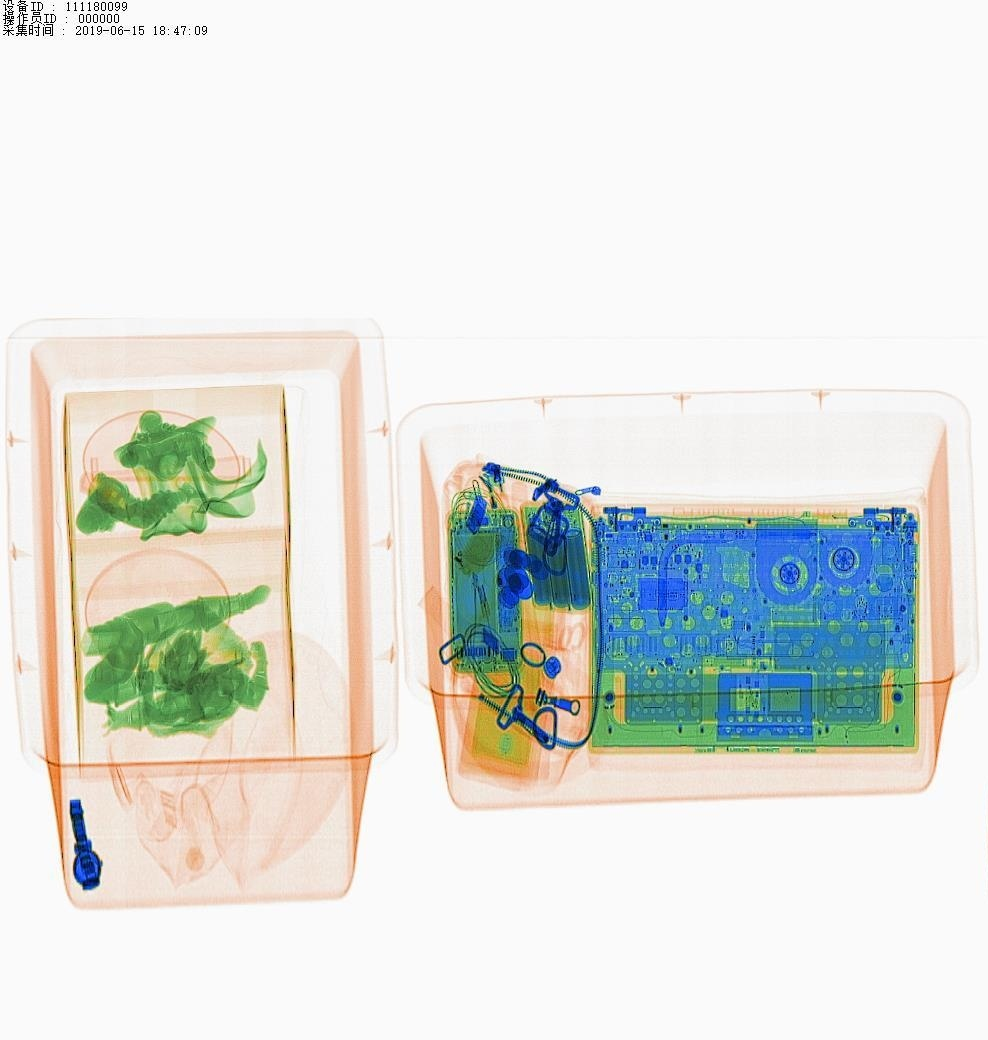NonmetallicFire: (480, 461, 516, 545)
